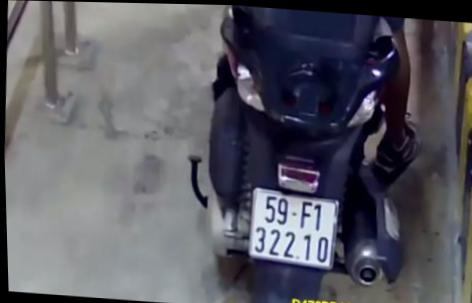LP: (242, 183, 340, 270)
